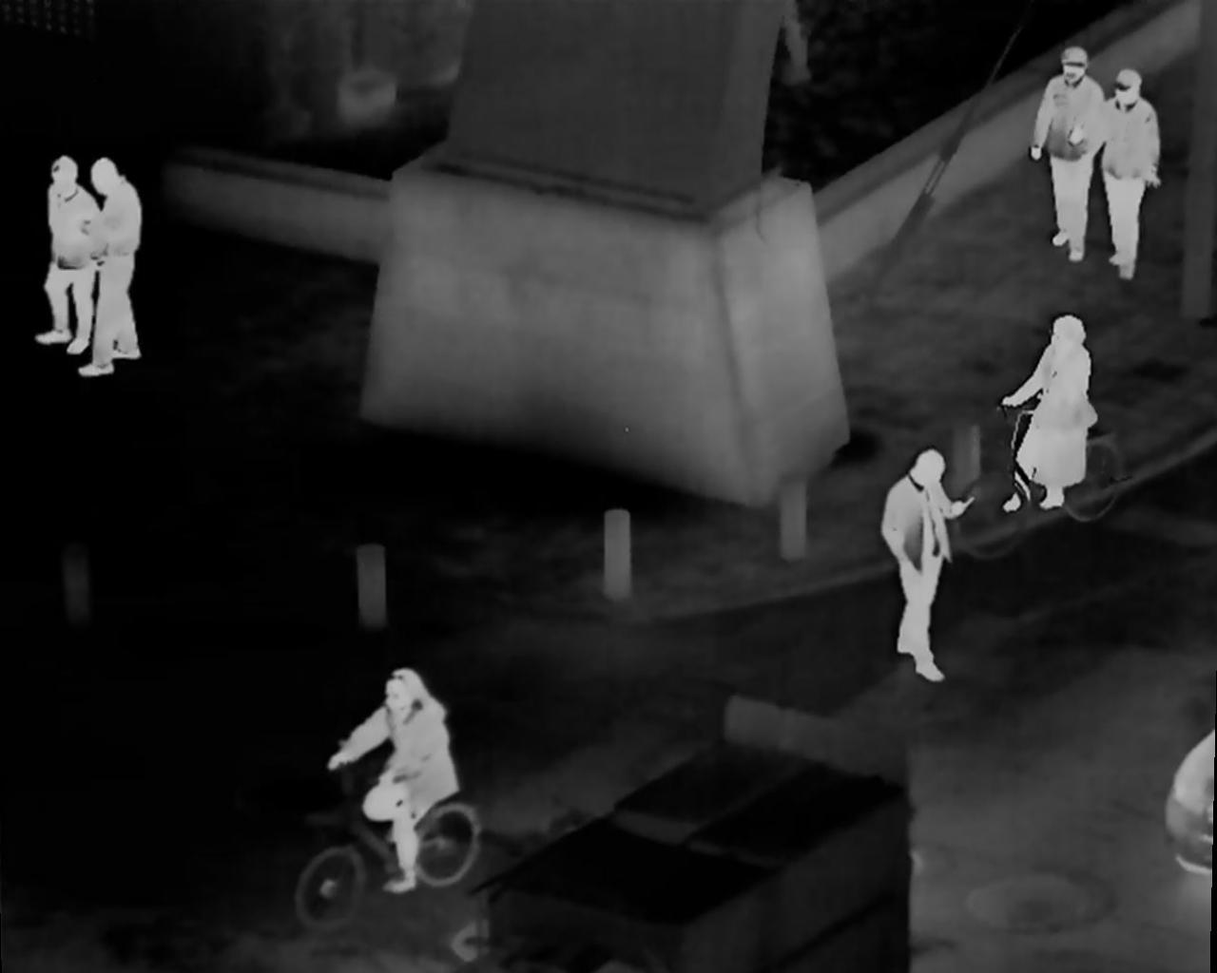person: (345, 660, 478, 890), (998, 314, 1105, 499), (84, 154, 157, 373), (878, 436, 943, 680), (29, 152, 99, 354), (1037, 50, 1104, 256), (1101, 67, 1159, 286)
